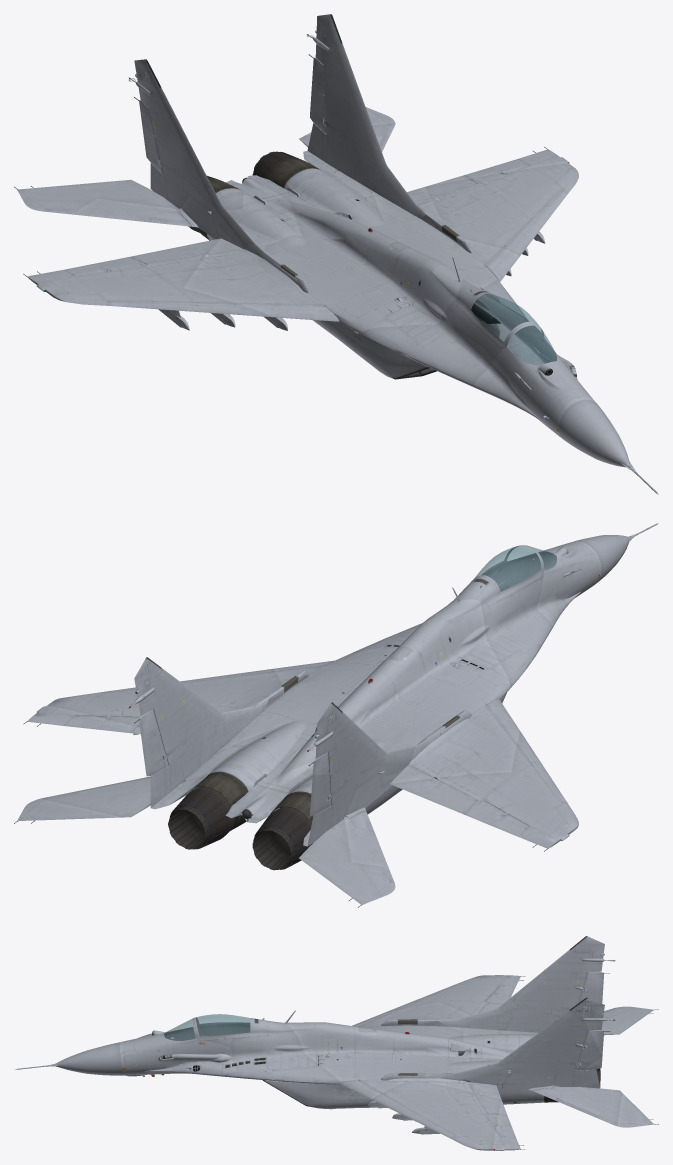
File: MiG-29SMT.obj
3 views of the same model, one above another, from view 1: azimuth 30°, elevation 25°; view 2: azimuth 150°, elevation 25°; view 3: azimuth 270°, elevation 25° (orthographic). The views are drawn at different scales.
Visible parts, largest first — view 1: body, stab_R, canopy, flap_R, flap_L, rudder_L, aileron_R, stab_L, rudder_R, aileron_L; view 2: body, stab_R, stab_L, canopy, flap_R, rudder_L, aileron_R, rudder_R, aileron_L; view 3: body, stab_L, canopy, stab_R, rudder_L, flap_L, rudder_R, aileron_L, aileron_R.
Boxes of the visible parts, x1,y1,x2,y2 form: body: [14, 14, 658, 494]; stab_R: [17, 179, 191, 226]; canopy: [471, 294, 556, 364]; flap_R: [131, 238, 243, 264]; flap_L: [407, 175, 476, 205]; rudder_L: [308, 54, 326, 134]; aileron_R: [64, 257, 142, 275]; stab_L: [299, 107, 395, 151]; rudder_R: [134, 97, 163, 174]; aileron_L: [464, 159, 528, 183]; body: [14, 523, 658, 907]; stab_R: [299, 811, 395, 904]; stab_L: [17, 776, 150, 820]; canopy: [475, 545, 556, 591]; flap_R: [390, 765, 477, 814]; rudder_L: [134, 709, 168, 776]; aileron_R: [464, 800, 529, 836]; rudder_R: [308, 752, 331, 815]; aileron_L: [64, 715, 139, 732]; body: [15, 936, 658, 1150]; stab_L: [533, 1086, 654, 1127]; canopy: [164, 1014, 250, 1040]; stab_R: [601, 1006, 653, 1035]; rudder_L: [575, 1030, 610, 1070]; flap_L: [468, 1082, 507, 1115]; rudder_R: [578, 971, 609, 1003]; aileron_L: [485, 1114, 515, 1137]; aileron_R: [485, 985, 515, 1003].
Bounding box in the file's own units: 11.13 × 3.82 × 17.32.
2 materials, 1 textured.
